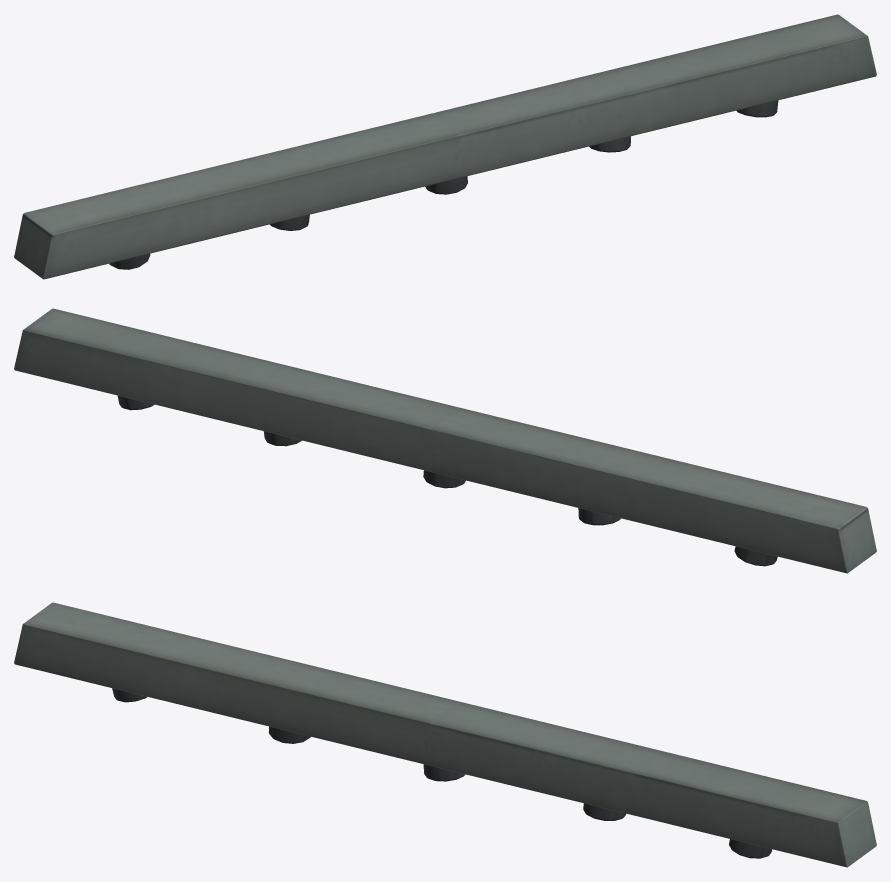
File: SM_CeilingLamp.glb
3 views of the same model, one above another, from view 1: azimuth 30°, elevation 25°; view 2: azimuth 150°, elevation 25°; view 3: azimuth 330°, elevation 25° (orthographic).
Visible parts, largest first — view 1: SM_CellingLamp_lp; view 2: SM_CellingLamp_lp; view 3: SM_CellingLamp_lp.
Boxes of the visible parts, x1,y1,x2,y2 form: SM_CellingLamp_lp: (14, 14, 876, 279); SM_CellingLamp_lp: (14, 308, 876, 573); SM_CellingLamp_lp: (14, 602, 876, 867).
Bounding box in the file's own units: 2 × 0.1462 × 0.1248.
Materials: 1 (1 with a texture image).
